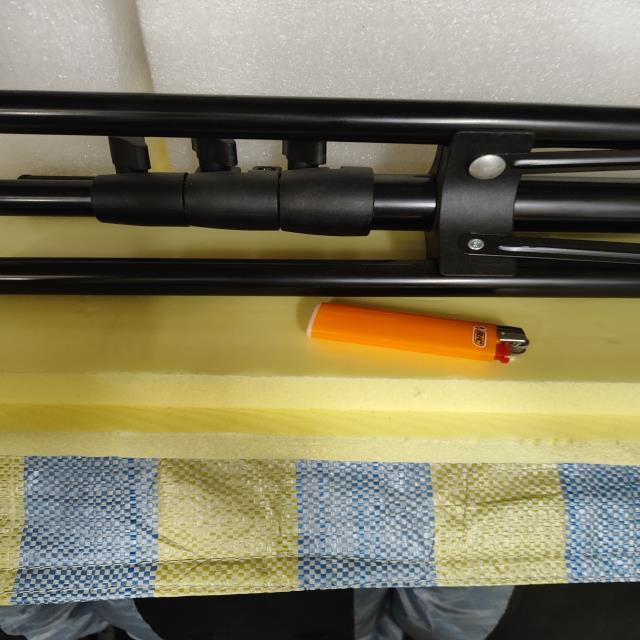lighter: (307, 302, 528, 363)
